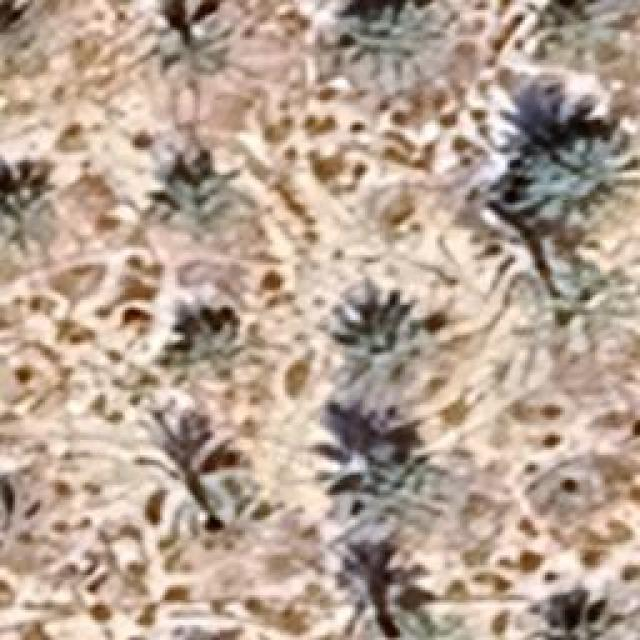PalmTree: (58, 31, 581, 342), (130, 428, 250, 540), (524, 126, 618, 229), (341, 3, 454, 86), (332, 550, 432, 638), (354, 432, 442, 526), (344, 298, 426, 390), (166, 158, 254, 242), (562, 275, 640, 355), (0, 471, 60, 572), (512, 590, 638, 638), (158, 13, 232, 86), (369, 600, 484, 640), (0, 0, 58, 75), (0, 180, 55, 258)
